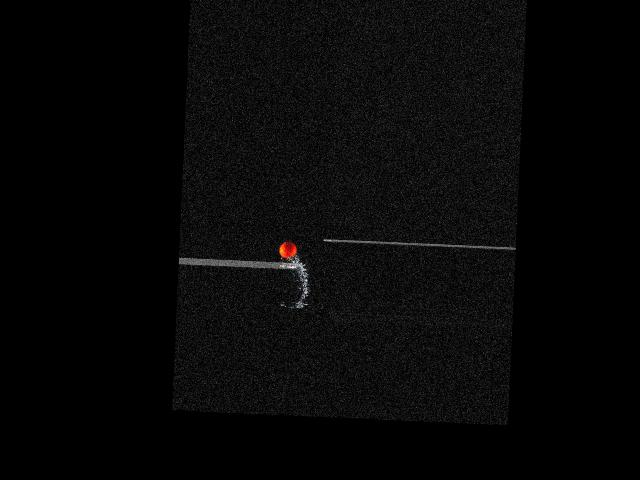tomato: (278, 241, 297, 258)
